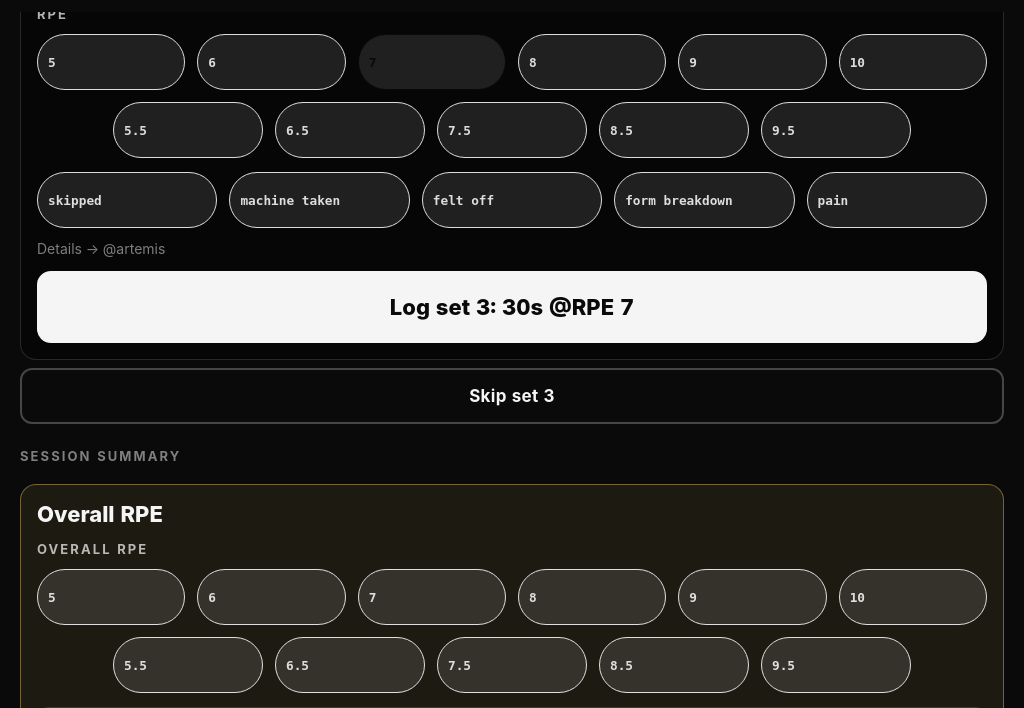
Test case: DoneScreen unlogged-set catch-all › Skip-set button POSTs a single is_skipped=true row with the right set_num
(page scrolled)
Click the button with aria-label "mark plank set 3 as skipped": x=512, y=396 [20,368,1004,424]
(page scrolled)
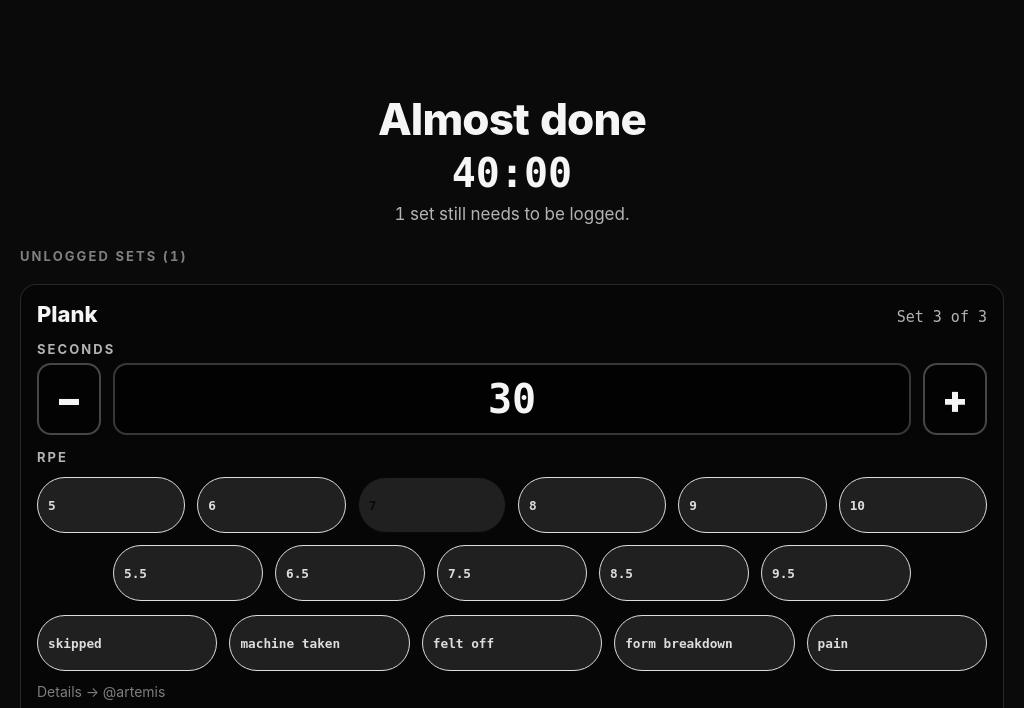
Expected: the text "Plank" is shown, [37,301,98,327]
